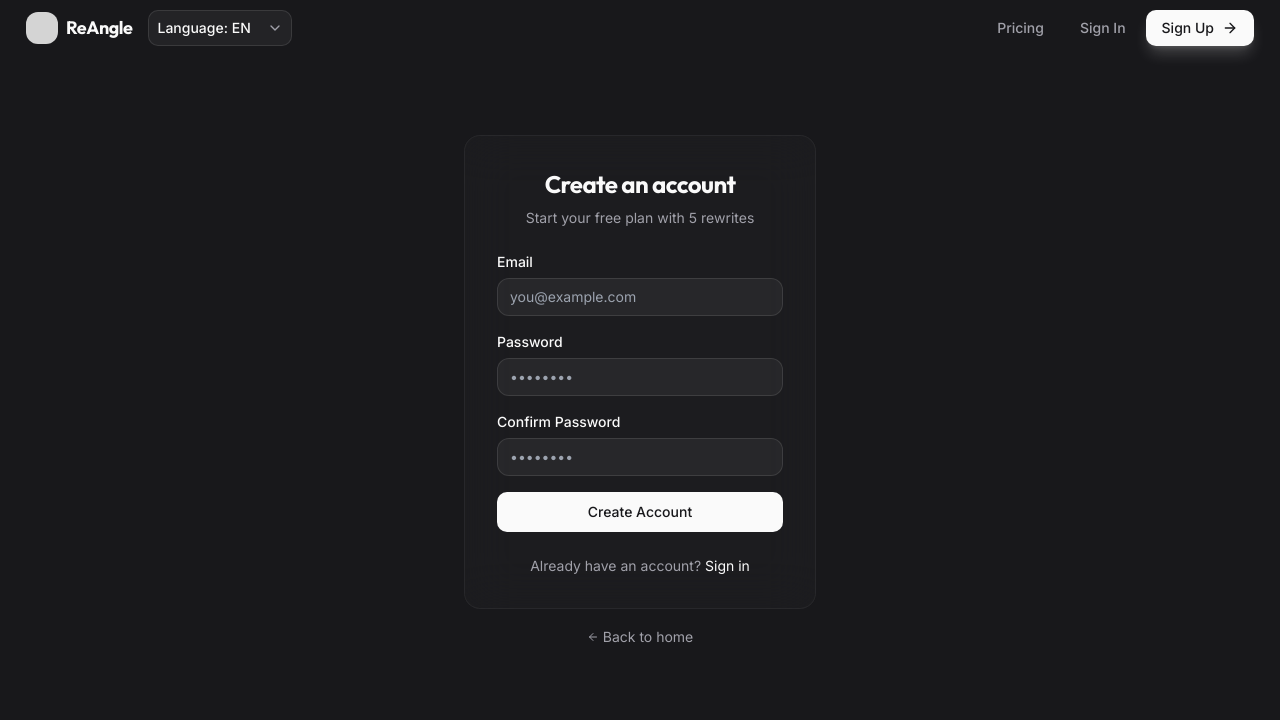
Test: RegisterPage › shows error when passwords do not match
This screenshot has width=1280, height=720.
Type "test@example.com" into the field labelled "Email". click: [640, 297]
box: top-left (497, 278), bottom-right (783, 316)
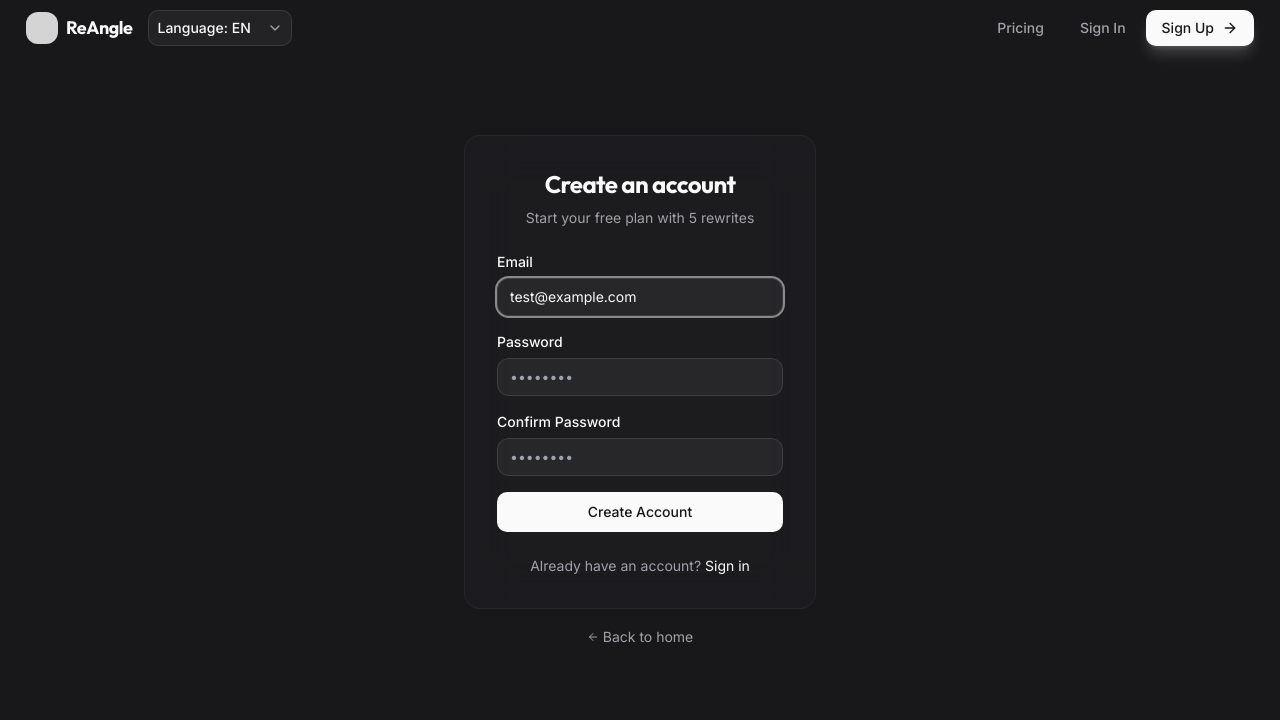
Type "password123" into the password field labelled "Password". click: [640, 377]
box: top-left (497, 358), bottom-right (783, 396)
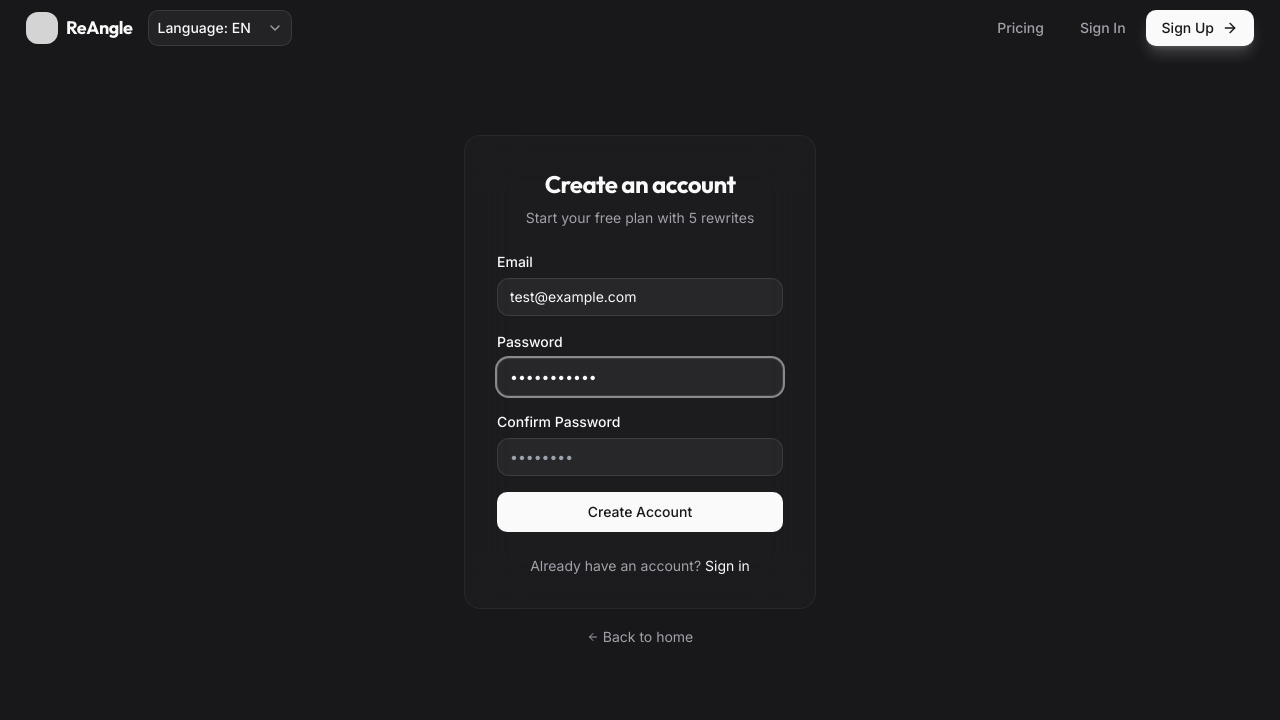
Type "different!" into the password field labelled "Confirm Password". click: [640, 457]
box: top-left (497, 438), bottom-right (783, 476)
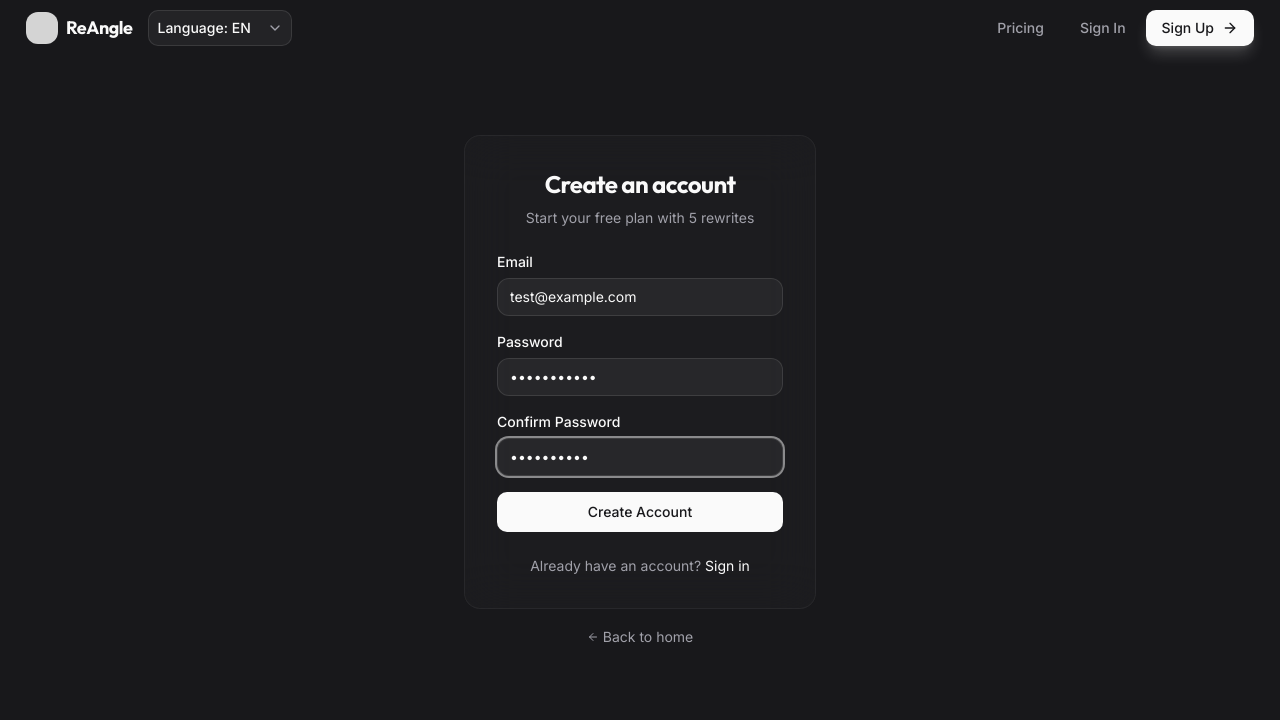
Click the button "Create Account". click: [640, 512]
box: top-left (497, 492), bottom-right (783, 532)
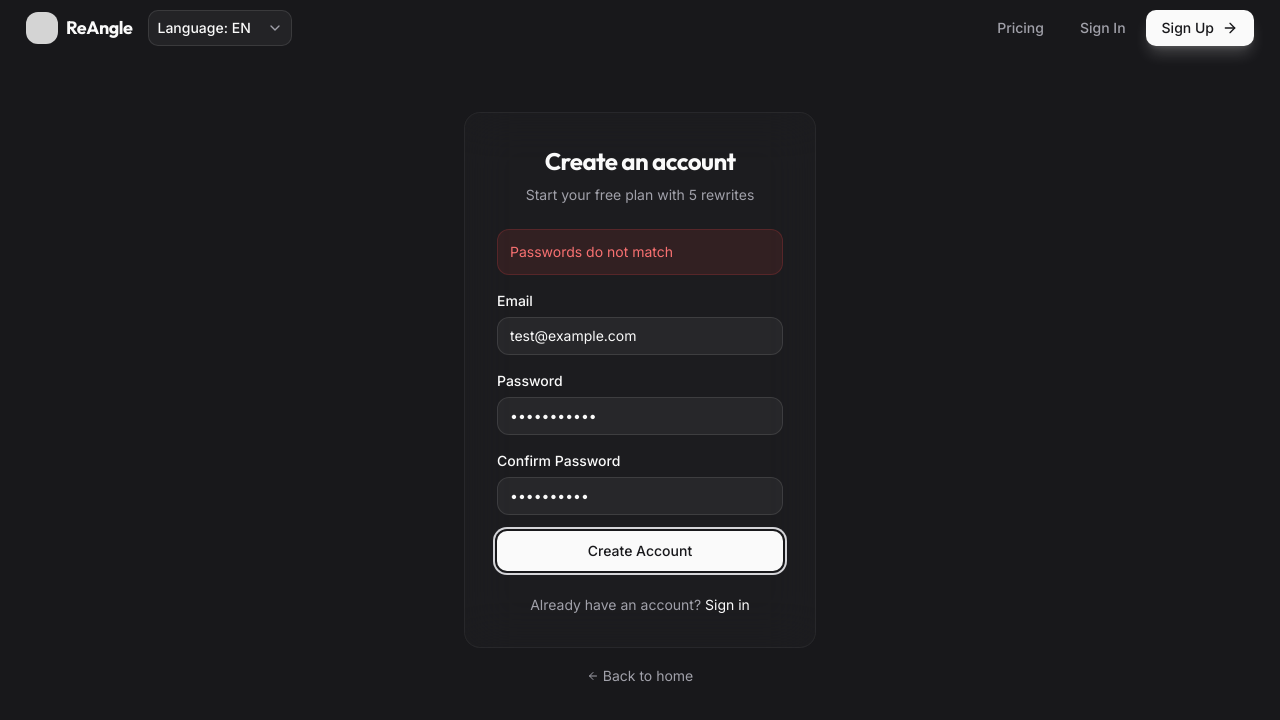
Result: the text "Passwords do not match" is shown at top-left (497, 229), bottom-right (783, 275)
